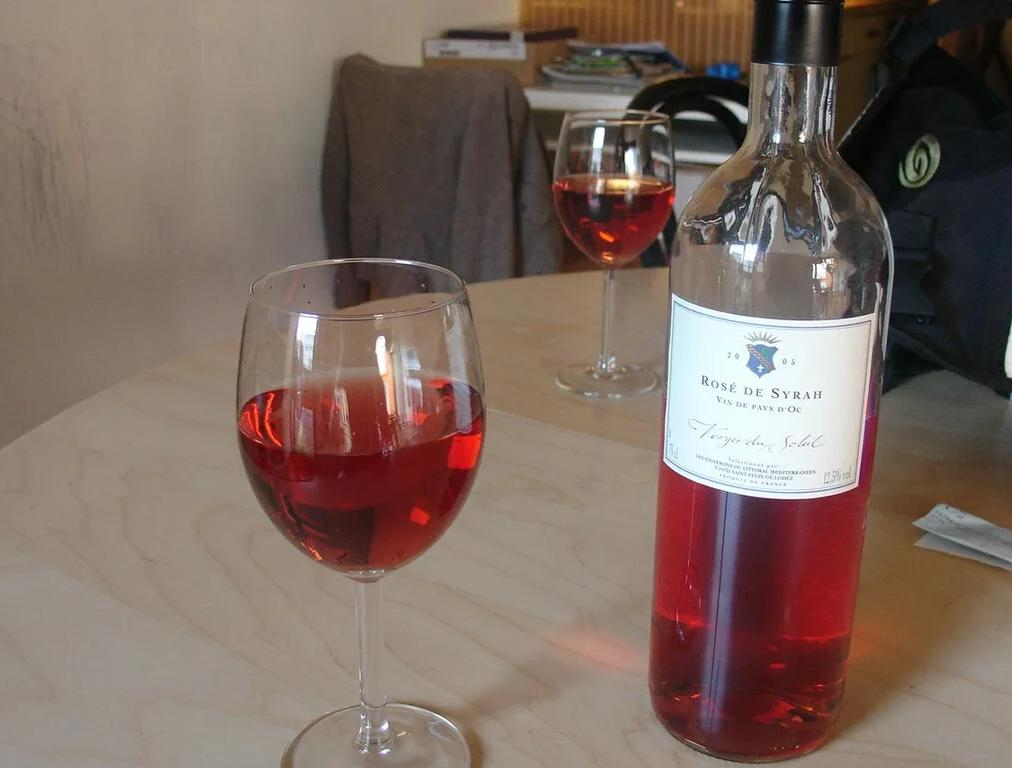wine bottle: (649, 0, 896, 764)
wine label: (661, 292, 875, 504)
